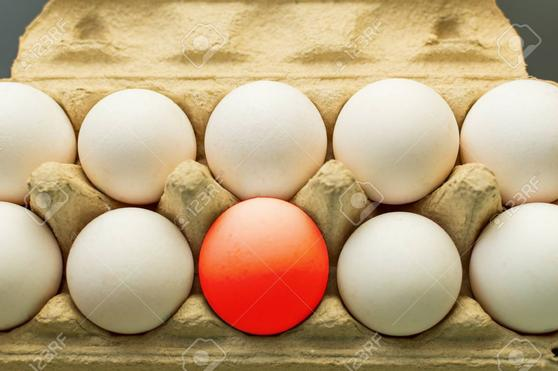egg: (57, 210, 197, 332), (192, 78, 329, 196), (339, 83, 465, 201)
